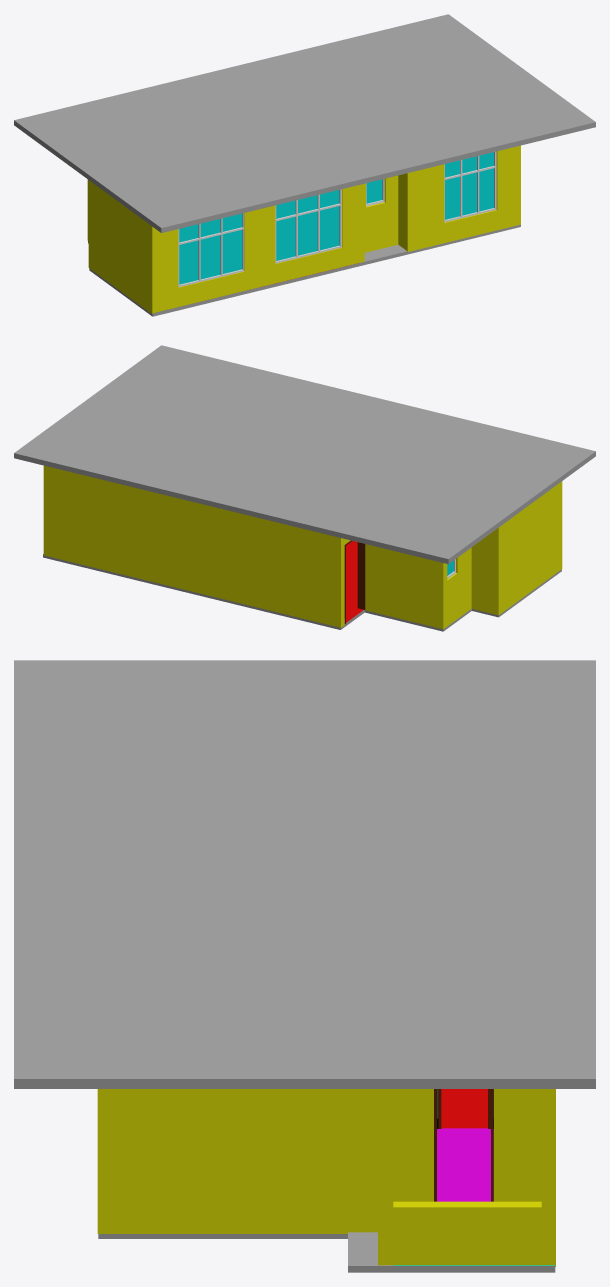
File: Wing_B_Flat_No_03_Type01MtID.fbx
3 renders of one model, top to bottom at view 1: azimuth 30°, elevation 25°; view 2: azimuth 150°, elevation 25°; view 3: azimuth 270°, elevation 25°, orthographic. The views are drawn at different scales.
Visible parts, largest first — view 1: Flat_No_03_celling__DoorFrame_Skerting:Roof1, wall, Glass1 (×2), Flat_No_03_celling__DoorFrame_Skerting:Glass1, Window_Frame (×2), Floor1, Flat_No_03_celling__DoorFrame_Skerting:Window_Frame; view 2: Flat_No_03_celling__DoorFrame_Skerting:Roof1, wall, Floor1, Flat_No_03_celling__DoorFrame_Skerting:pCube7; view 3: Flat_No_03_celling__DoorFrame_Skerting:Roof1, wall, Floor1.
Part boxes in pixels (box(x1,y1,x2,y2)): Flat_No_03_celling__DoorFrame_Skerting:Roof1: box(14, 14, 595, 232); wall: box(87, 145, 520, 314); Glass1 (×2): box(179, 190, 339, 284); Flat_No_03_celling__DoorFrame_Skerting:Glass1: box(445, 152, 493, 219); Window_Frame (×2): box(178, 189, 341, 287); Floor1: box(88, 224, 520, 316); Flat_No_03_celling__DoorFrame_Skerting:Window_Frame: box(444, 151, 496, 222); Flat_No_03_celling__DoorFrame_Skerting:Roof1: box(14, 345, 595, 564); wall: box(43, 465, 562, 629); Floor1: box(43, 541, 561, 631); Flat_No_03_celling__DoorFrame_Skerting:pCube7: box(344, 540, 365, 624); Flat_No_03_celling__DoorFrame_Skerting:Roof1: box(14, 660, 595, 1088); wall: box(97, 1089, 555, 1266); Floor1: box(98, 1089, 555, 1272).
Size of the model in its own units: 1361 by 321 by 800.
